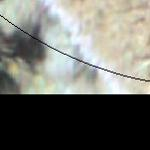alive: (3, 2, 147, 92)
